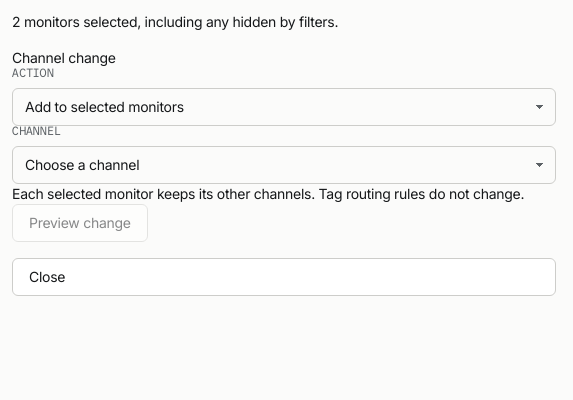
Test case: invalidates a completed preview when the selection changes
Select "Ops · Slack" in the dropdown labelled "Channel". click: (284, 165)
box: [12,146,556,184]
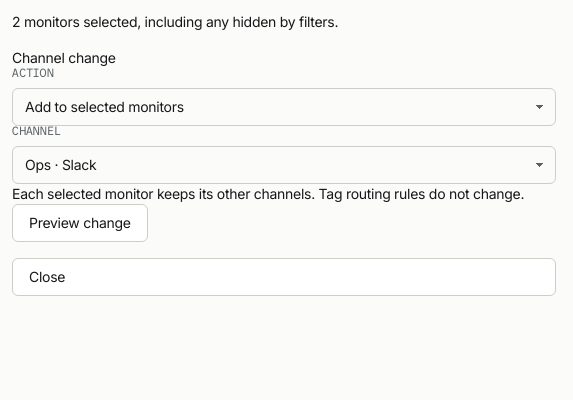
Click the button "Preview change". click: (80, 223)
box: [12,204,148,242]
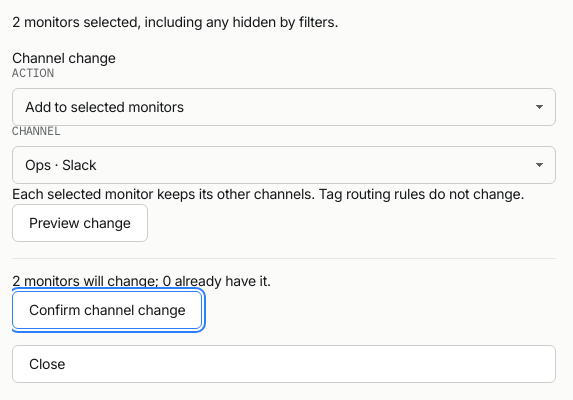
Now the button "Confirm channel change" is shown, box [12,291,202,329]
